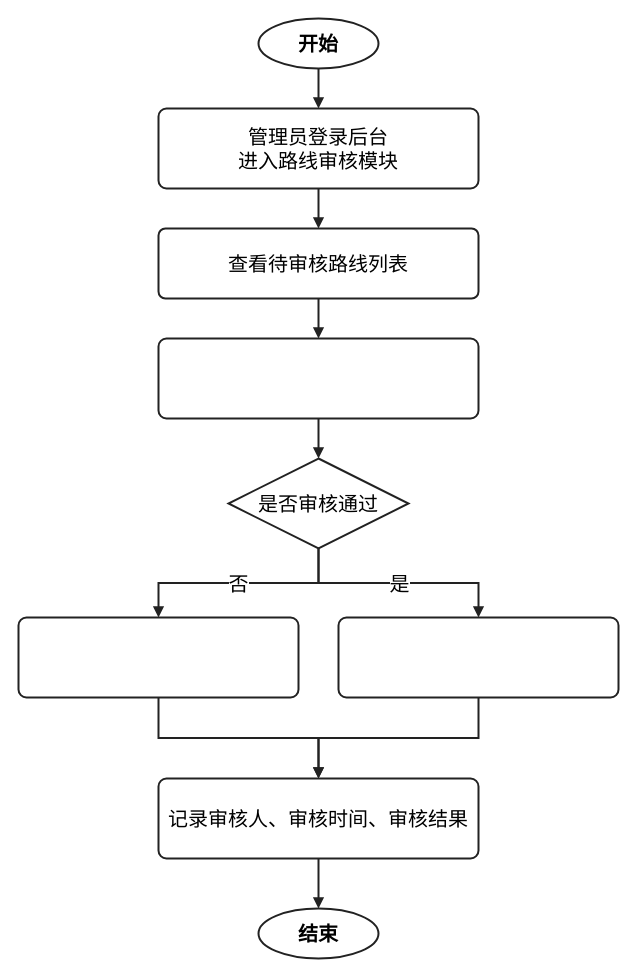
The diagram is 636 pixels wide and 976 high, and some of its shapes have lost their labels. The centre of each missing label's shape, as x and y in pixels:
更新为 approved 路线进入可见状态: [478,657]
更新为 rejected 填写审核备注: [158,657]
检查路线内容、图片、轨迹与描述信息: [318,378]
